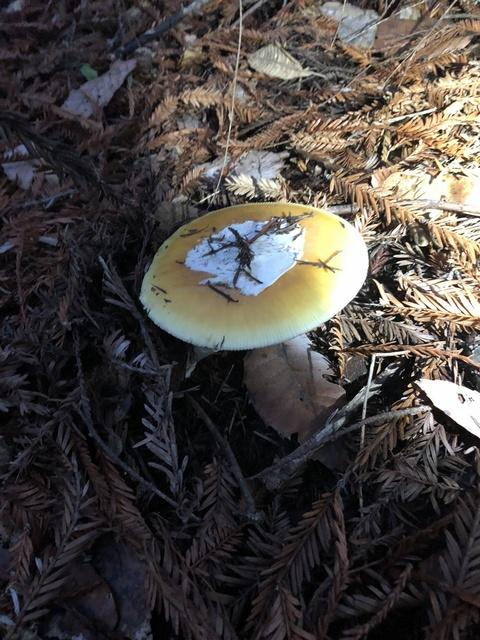Edible Mushroom: (137, 200, 369, 375)
